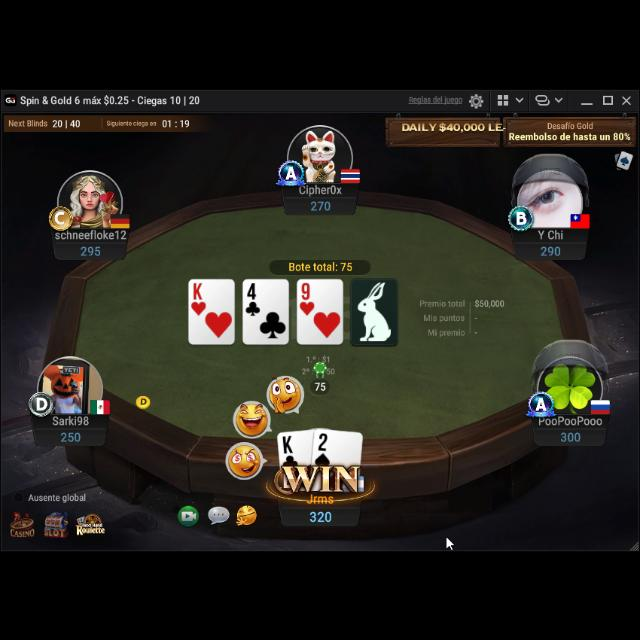2s: (313, 428, 331, 464)
4c: (244, 278, 262, 316)
9h: (298, 278, 316, 312)
Kc: (281, 432, 299, 468)
Kh: (190, 278, 207, 314)
bet_text: (313, 377, 327, 389)
dealer: (134, 390, 152, 406)
pot_text: (286, 258, 354, 270)
stack_text: (308, 504, 332, 520), (58, 426, 82, 440), (538, 241, 562, 255), (558, 427, 582, 441), (308, 195, 332, 209), (80, 241, 102, 255)
